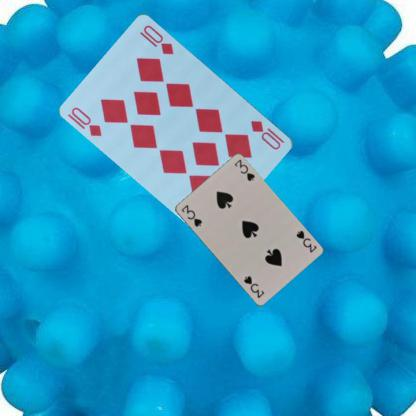10d: (248, 118, 286, 152), (69, 104, 103, 138)
3s: (178, 202, 203, 228), (293, 228, 318, 254)
